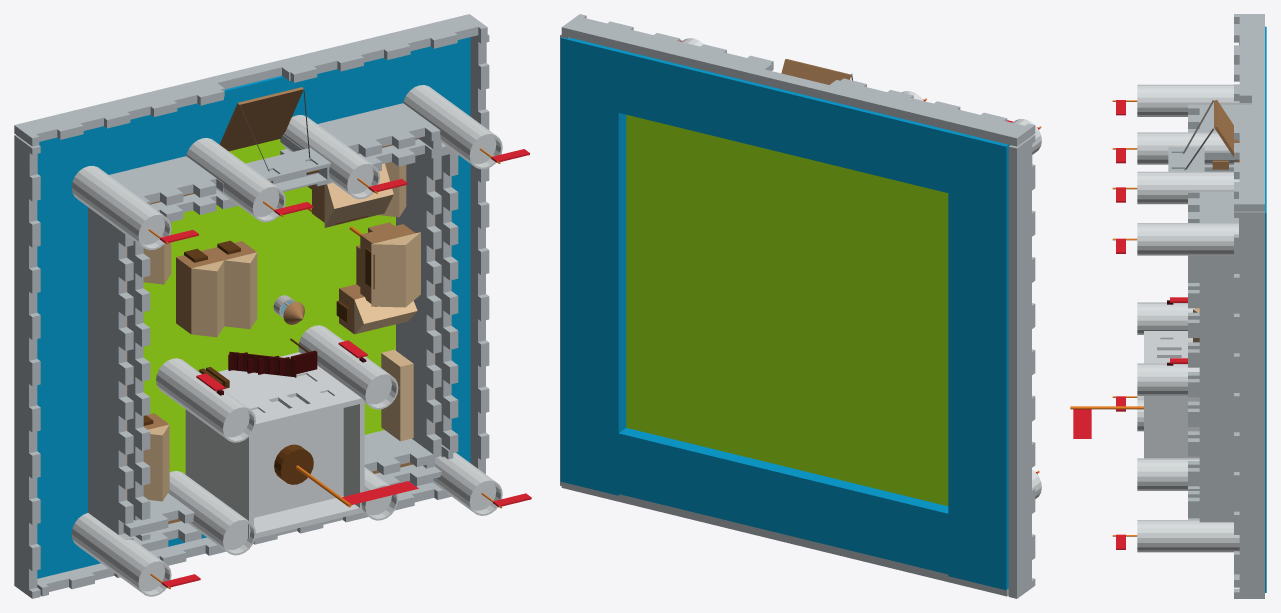
The model's file is tinker.obj.
3 views of the same model, side by side, from view 1: azimuth 30°, elevation 25°; view 2: azimuth 150°, elevation 25°; view 3: azimuth 270°, elevation 25° (orthographic). The views are drawn at different scales.
Visible parts, largest first — view 1: group_0_12568524, group_0_14541540, group_0_-1040146473, group_0_11402263, group_0_14860437, group_0_11107152, group_0_15277357, group_0_6306067, group_0_7027730, group_0_4656390; view 2: group_0_11402263, group_0_-1040146473, group_0_12568524, group_0_11107152, group_0_14541540; view 3: group_0_12568524, group_0_14541540, group_0_15277357, group_0_-1040146473, group_0_11107152, group_0_16089887.
Boxes of the visible parts, x1,y1,x2,y2 form: group_0_12568524: (14,14,489,598); group_0_14541540: (71,85,502,596); group_0_-1040146473: (37,37,470,578); group_0_11402263: (143,139,395,474); group_0_14860437: (143,162,420,501); group_0_11107152: (127,87,435,523); group_0_15277357: (160,149,531,587); group_0_6306067: (143,215,374,425); group_0_7027730: (274,444,313,484); group_0_4656390: (229,351,296,377); group_0_11402263: (626,114,948,506); group_0_-1040146473: (560,37,1009,590); group_0_12568524: (560,14,1035,598); group_0_11107152: (781,59,851,84); group_0_14541540: (681,38,1041,498); group_0_12568524: (1168,14,1264,598); group_0_14541540: (1137,84,1251,552); group_0_15277357: (1073,100,1187,549); group_0_-1040146473: (1265,26,1266,592); group_0_11107152: (1212,100,1239,169); group_0_16089887: (1070,100,1143,536).
Size of the model in its own units: 276 by 266 by 120.
